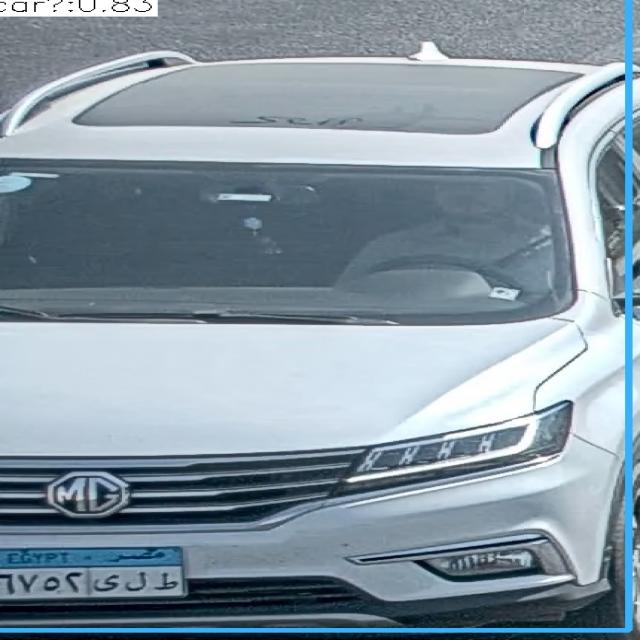windshield: (12, 165, 576, 324)
